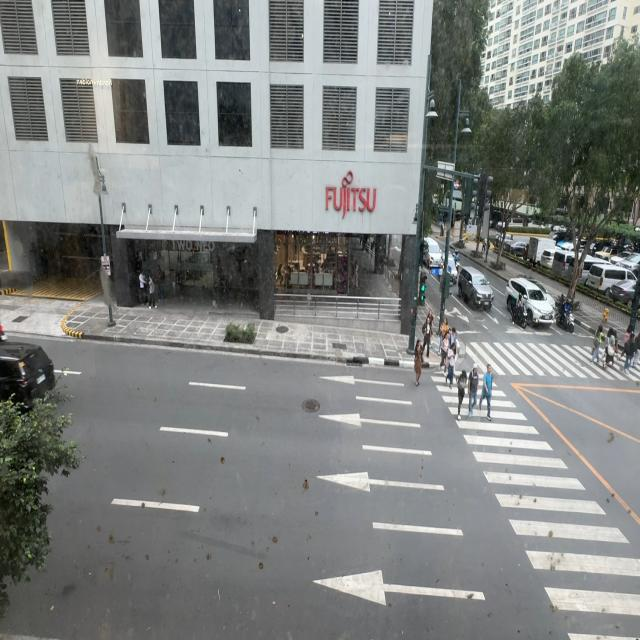crossing: (478, 364, 494, 421), (620, 330, 638, 374), (467, 365, 479, 418), (456, 367, 468, 419), (422, 310, 434, 359), (414, 338, 426, 385), (603, 332, 617, 371), (593, 320, 604, 368), (445, 344, 456, 388), (440, 332, 450, 375), (448, 327, 458, 359), (439, 317, 449, 348)
